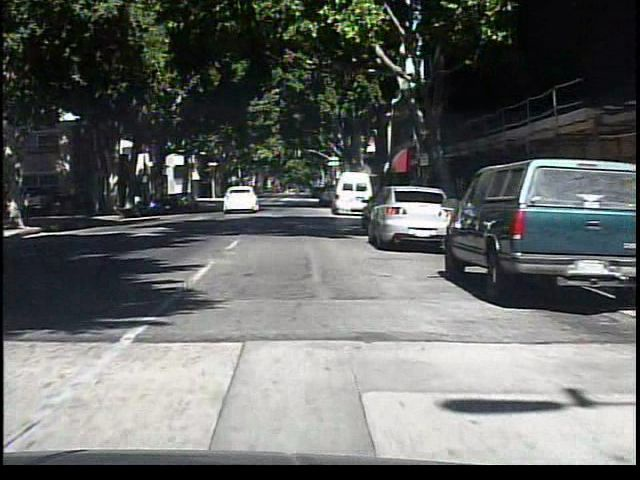person: (291, 175, 307, 205)
